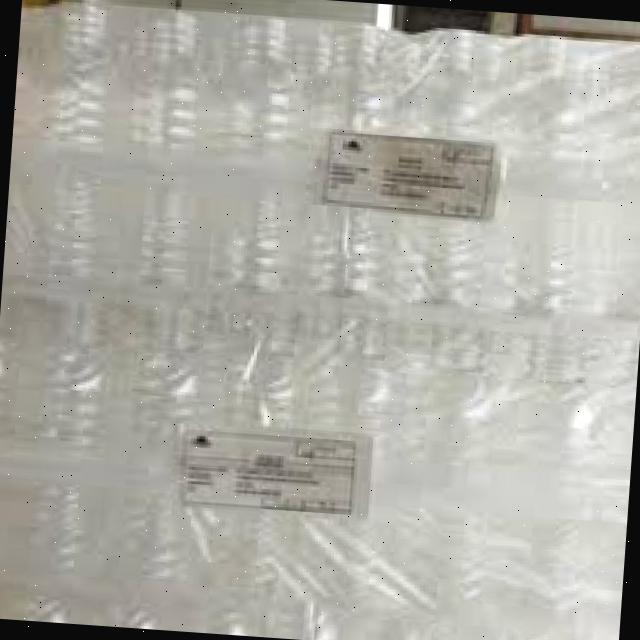bottle: (5, 0, 151, 314), (358, 38, 512, 322), (443, 51, 589, 339), (0, 298, 137, 599), (176, 17, 322, 293), (264, 33, 404, 314), (106, 2, 231, 310), (131, 305, 250, 597), (472, 338, 595, 586), (214, 315, 328, 579), (542, 43, 640, 329), (281, 328, 411, 536), (392, 324, 492, 586)
